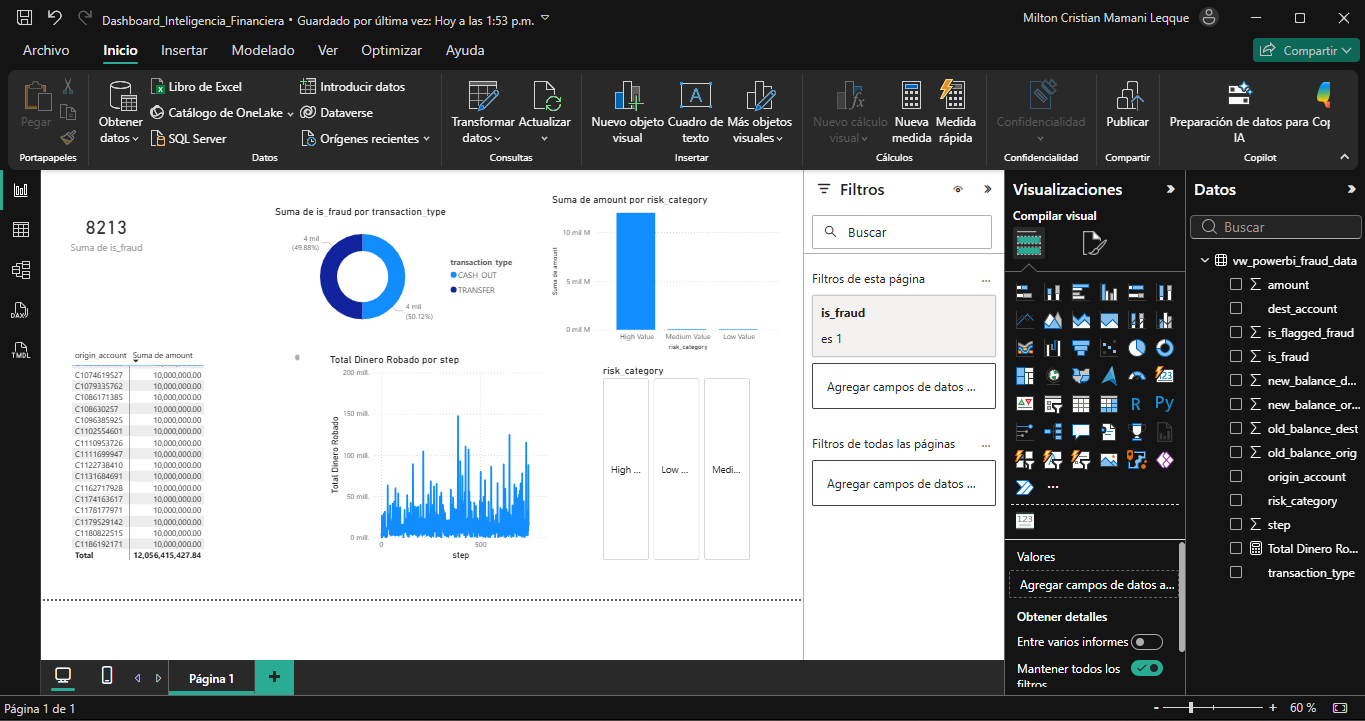

What the dashboard file says about the page in this screenshot:
{"tool":"powerbi","page":{"name":"Página 1","canvas":[1280,720],"ordinal":0},"visuals":[{"type":"advanceCardE03760C5AB684758B56AA29F9E6C257B","fields":{"mainMeasure":["Sum(vw_powerbi_fraud_data.is_fraud)"]},"box":[10.1,0,199.9,215],"z":0},{"type":"donutChart","fields":{"Category":["vw_powerbi_fraud_data.transaction_type"],"Y":["Sum(vw_powerbi_fraud_data.is_fraud)"]},"box":[388,58.8,423.3,221.7],"z":1000},{"type":"clusteredColumnChart","fields":{"Category":["vw_powerbi_fraud_data.risk_category"],"Y":["Sum(vw_powerbi_fraud_data.amount)"]},"box":[853.3,38.6,393.1,268.8],"z":2000},{"type":"pivotTable","fields":{"Values":["Sum(vw_powerbi_fraud_data.amount)"],"Rows":["vw_powerbi_fraud_data.origin_account"]},"box":[47,295.6,393.1,364.5],"z":2001},{"type":"lineChart","fields":{"Y":["vw_powerbi_fraud_data.Total Dinero Robado"],"Category":["vw_powerbi_fraud_data.step"]},"box":[480.4,307.4,372.9,352.8],"z":2002},{"type":"advancedSlicerVisual","fields":{"Values":["vw_powerbi_fraud_data.risk_category"]},"box":[939,325.9,258.7,334.3],"z":2003}]}

Visuals, with their boxes on the page's 1280x720 design canvas (x1, y1, x2, y2). These are canvas units, not pixel positions in the 1365x721 screenshot, which may show the page scaled, cropped or inside an application window:
advanceCardE03760C5AB684758B56AA29F9E6C257B - Sum(vw_powerbi_fraud_data.is_fraud): left=10, top=0, right=210, bottom=215
donutChart - vw_powerbi_fraud_data.transaction_type x Sum(vw_powerbi_fraud_data.is_fraud): left=388, top=59, right=811, bottom=280
clusteredColumnChart - vw_powerbi_fraud_data.risk_category x Sum(vw_powerbi_fraud_data.amount): left=853, top=39, right=1246, bottom=307
pivotTable - Sum(vw_powerbi_fraud_data.amount) x vw_powerbi_fraud_data.origin_account: left=47, top=296, right=440, bottom=660
lineChart - vw_powerbi_fraud_data.Total Dinero Robado x vw_powerbi_fraud_data.step: left=480, top=307, right=853, bottom=660
advancedSlicerVisual - vw_powerbi_fraud_data.risk_category: left=939, top=326, right=1198, bottom=660
